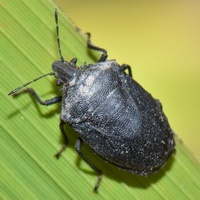insect: (8, 9, 174, 191), (23, 74, 63, 101)
